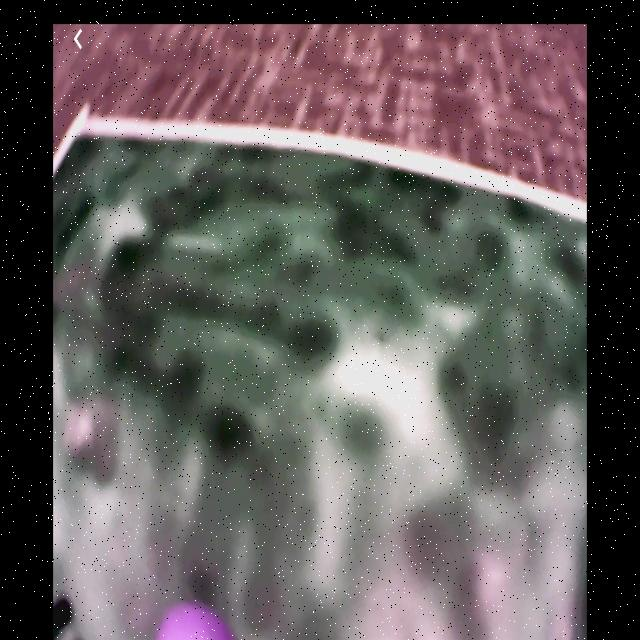ball: (156, 601, 235, 640)
